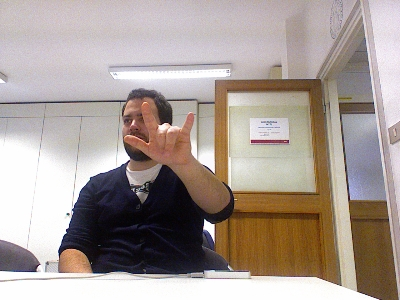我爱你: (121, 99, 195, 165)
